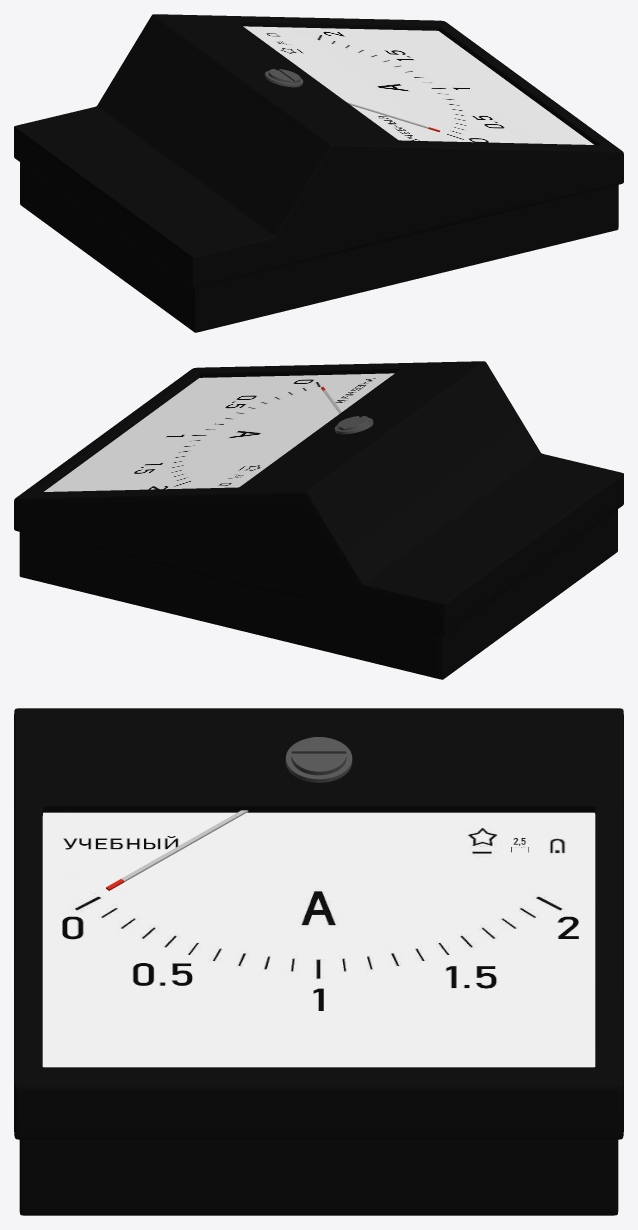
Rendered from ВОЛЬМЕТР.fbx.
3 renders of one model, top to bottom at view 1: azimuth 30°, elevation 25°; view 2: azimuth 150°, elevation 25°; view 3: azimuth 270°, elevation 25°, orthographic. The views are drawn at different scales.
Parts seen in each view (by area): view 1: Cube.005, Cube.001; view 2: Cube.005, Cube.001; view 3: Cube.005, Cube.001, Cube.004.
Part boxes in pixels (x1,y1,x2,y2): Cube.005: [14, 14, 623, 332]; Cube.001: [243, 26, 593, 144]; Cube.005: [14, 361, 623, 679]; Cube.001: [44, 373, 394, 491]; Cube.005: [14, 708, 623, 1215]; Cube.001: [42, 812, 595, 1067]; Cube.004: [106, 810, 248, 890].
Bounding box in the file's own units: 9.15 × 3.18 × 6.57.
